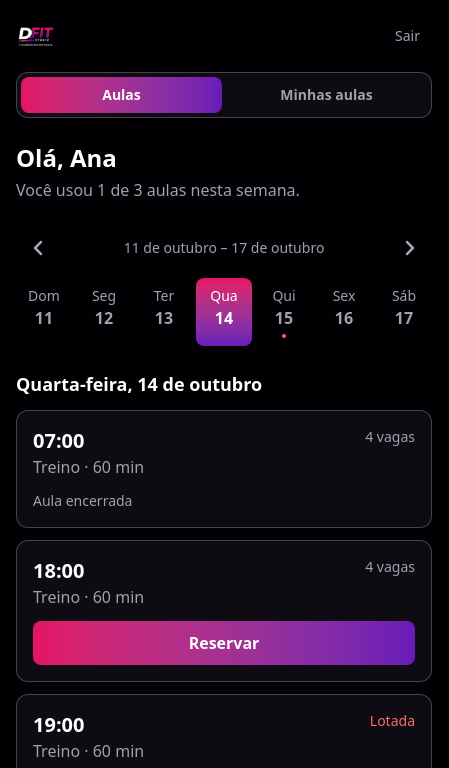
it: week view › books a class and shows it as booked
The image size is (449, 768).
Expected: the text "18:00" is shown, left=33, top=557, right=84, bottom=584
Click the button "Reservar".
click(224, 643)  # box left=33, top=621, right=415, bottom=665
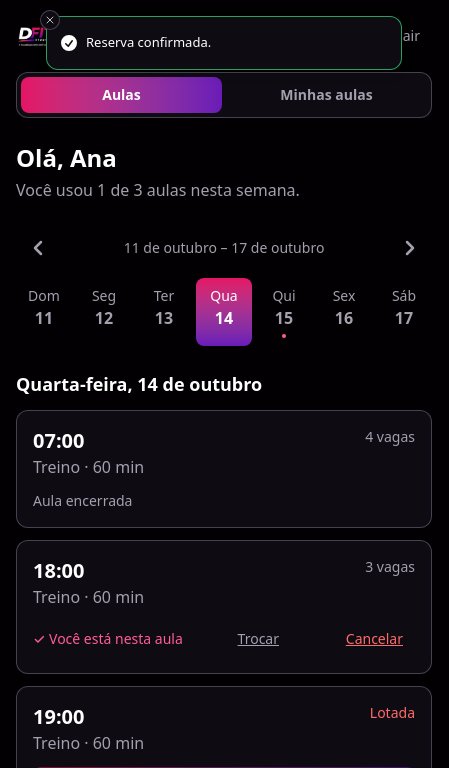
Now the text "✓ Você está nesta aula" is shown, box left=33, top=629, right=183, bottom=649
Now the text "Reserva confirmada." is shown, box left=86, top=33, right=211, bottom=52
